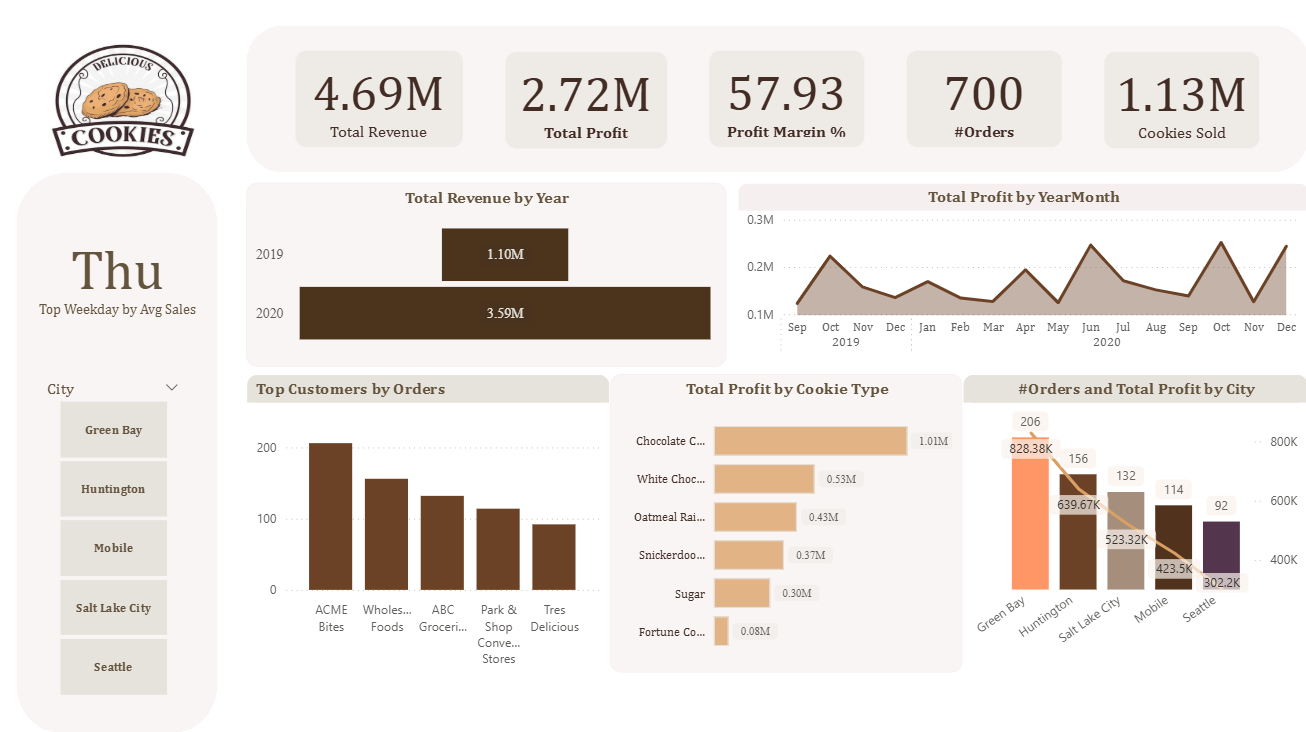

Layout of this report page (visuals, bound fields, positions):
{"tool":"powerbi","page":{"name":"Sales Summary ","canvas":[1280,720],"ordinal":0},"visuals":[{"type":"shape","box":[240.9,25.7,1039.4,144.3],"z":0},{"type":"barChart","fields":{"Category":["Cookie type.Cookie Type"],"Y":["_Measure.Total Profit"]},"box":[596.7,366.8,344.8,292.3],"z":1000},{"type":"card","fields":{"Values":["_Measure.Total Revenue"]},"box":[288.6,50.5,164.5,95.2],"z":2000},{"type":"card","fields":{"Values":["Orders.Units Sold"]},"box":[1079.8,51.4,152.9,95.4],"z":3000},{"type":"card","fields":{"Values":["Orders.Order ID"]},"box":[886.4,50.1,152.9,95.4],"z":4000},{"type":"funnel","fields":{"Category":["_Date.Year"],"Y":["_Measure.Total Revenue"]},"box":[240.9,179.8,469.6,179.8],"z":5000},{"type":"card","fields":{"Values":["_Measure.Total Profit"]},"box":[493.5,51.4,159,95.4],"z":6000},{"type":"image","box":[0,0,240.9,199.1],"z":7000},{"type":"shape","box":[15.9,170,196.9,550.3],"z":8000},{"type":"slicer","fields":{"Values":["Customers.City"]},"box":[33,366.8,154.1,320.4],"z":9000},{"type":"lineStackedColumnComboChart","title":"#Orders and Total Profit by City","fields":{"Category":["Customers.City"],"Y":["Orders.Order ID"],"Y2":["_Measure.Total Profit"]},"box":[941.6,366.8,338.7,292.3],"z":10000},{"type":"areaChart","title":"Total Profit by YearMonth","fields":{"Category":["_Date.Year","_Date.Month Name"],"Y":["_Measure.Total Profit"]},"box":[721.5,179.8,558.8,179.8],"z":11000},{"type":"lineStackedColumnComboChart","title":"Top Customers by Orders","fields":{"Category":["Customers.Name"],"Y":["Orders.Order ID"]},"box":[240.9,366.8,355.8,299.6],"z":12000},{"type":"card","fields":{"Values":["_Measure.Profit Margin %"]},"box":[693,50.1,152.9,95.4],"z":13000},{"type":"card","fields":{"Values":["_Measure.Top Weekday by Sales"]},"box":[22,209.1,185.9,121.1],"z":14000}]}

Visuals, with their boxes in screenshot pixels (x1, y1, x2, y2), scaled from the page's 1280x720 canvas onto the 1306x732 screenshot:
shape: rect(246, 26, 1305, 173)
barChart - Cookie type.Cookie Type x _Measure.Total Profit: rect(609, 373, 961, 670)
card - _Measure.Total Revenue: rect(294, 51, 462, 148)
card - Orders.Units Sold: rect(1102, 52, 1258, 149)
card - Orders.Order ID: rect(904, 51, 1060, 148)
funnel - _Date.Year x _Measure.Total Revenue: rect(246, 183, 725, 366)
card - _Measure.Total Profit: rect(504, 52, 666, 149)
image: rect(0, 0, 246, 202)
shape: rect(16, 173, 217, 731)
slicer - Customers.City: rect(34, 373, 191, 699)
"#Orders and Total Profit by City" lineStackedColumnComboChart: rect(961, 373, 1305, 670)
"Total Profit by YearMonth" areaChart: rect(736, 183, 1305, 366)
"Top Customers by Orders" lineStackedColumnComboChart: rect(246, 373, 609, 678)
card - _Measure.Profit Margin %: rect(707, 51, 863, 148)
card - _Measure.Top Weekday by Sales: rect(22, 213, 212, 336)
